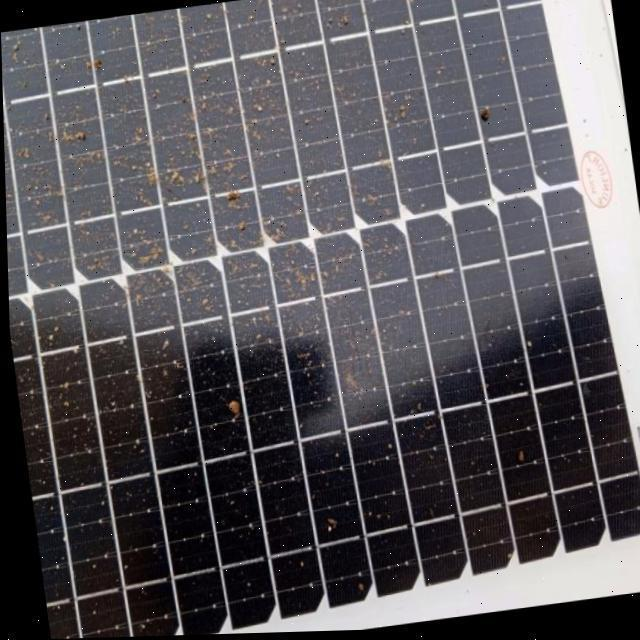Surface Contaminant: (1, 0, 640, 624)
